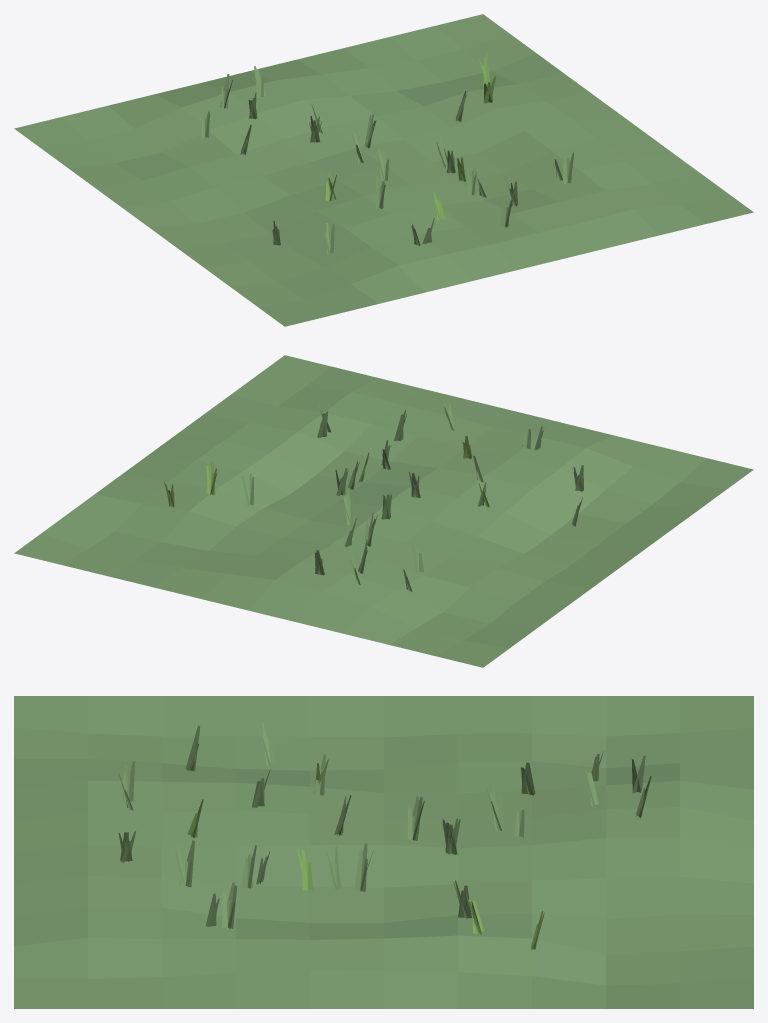
File: grass_lowpoly_a.glb
3 views of the same model, one above another, from view 1: azimuth 30°, elevation 25°; view 2: azimuth 150°, elevation 25°; view 3: azimuth 270°, elevation 25° (orthographic). The views are drawn at different scales.
Visible parts, largest first — view 1: GrassTile; view 2: GrassTile; view 3: GrassTile.
Part boxes in pixels (bbox=[...]): GrassTile: bbox=[14, 14, 753, 326]; GrassTile: bbox=[14, 355, 753, 667]; GrassTile: bbox=[14, 696, 753, 1008].
Size of the model in its own units: 1 by 0.1033 by 1.
